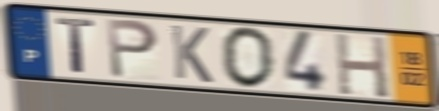4: (282, 27, 330, 96)
H: (332, 30, 392, 101)
K: (167, 22, 215, 86)
O: (219, 25, 278, 91)
P: (104, 16, 161, 81)
T: (53, 15, 99, 76)
